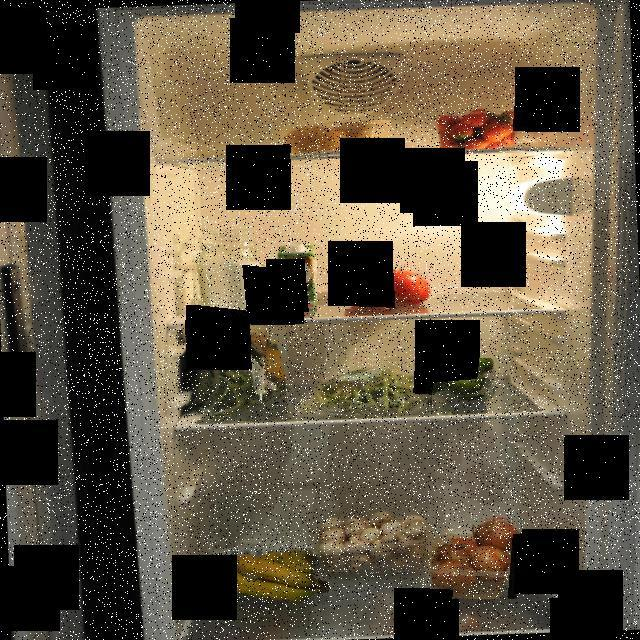banana: (216, 546, 330, 604)
green_beans: (302, 354, 434, 415)
heavy_cream: (276, 240, 318, 312)
lime: (411, 358, 497, 402)
mushrooms: (316, 509, 439, 577)
onion: (426, 515, 523, 599)
potato: (275, 120, 391, 160)
spinach: (184, 320, 296, 420)
strawberries: (433, 106, 528, 153)
sugar: (188, 226, 266, 316)
tomato: (342, 262, 436, 309)
